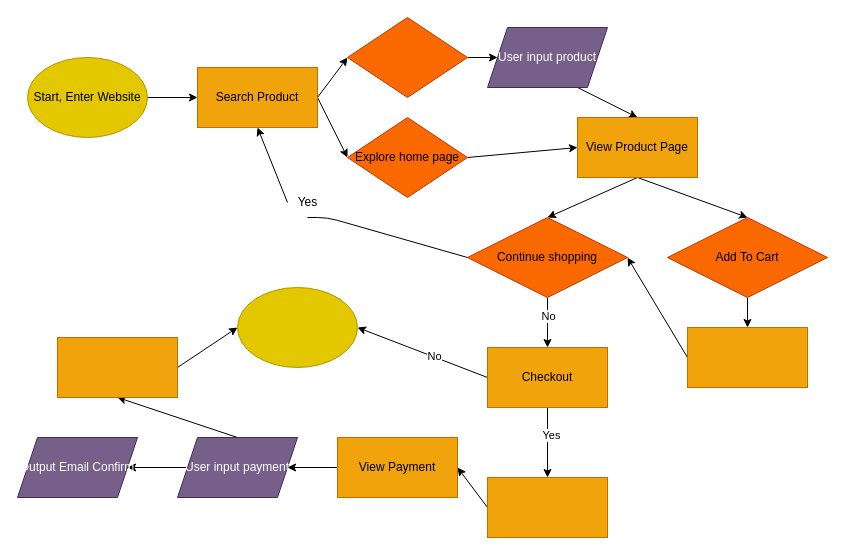
This 845x555 diagram has some shape labels left out. Here are the shapes that lost their labels. From the top down, the centre of each, then its label:
At (x=407, y=57): "Search For Product".
At (x=297, y=327): "End, Exit Website".
At (x=117, y=367): "Order Confirmation".
At (x=747, y=357): "Cart Confirmation".
At (x=547, y=507): "View Cart".
